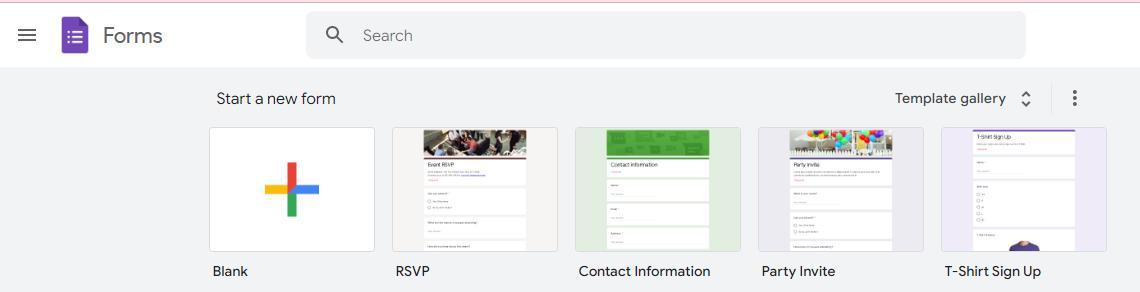icon: (56, 9, 96, 62), (1060, 84, 1096, 119), (15, 20, 44, 52), (1020, 89, 1036, 112)
input: (306, 13, 1026, 58)
label: (580, 260, 714, 283), (893, 88, 1010, 114), (941, 260, 1045, 283), (217, 89, 339, 108), (102, 22, 166, 51), (759, 263, 840, 285), (209, 261, 255, 281), (395, 262, 434, 283)
